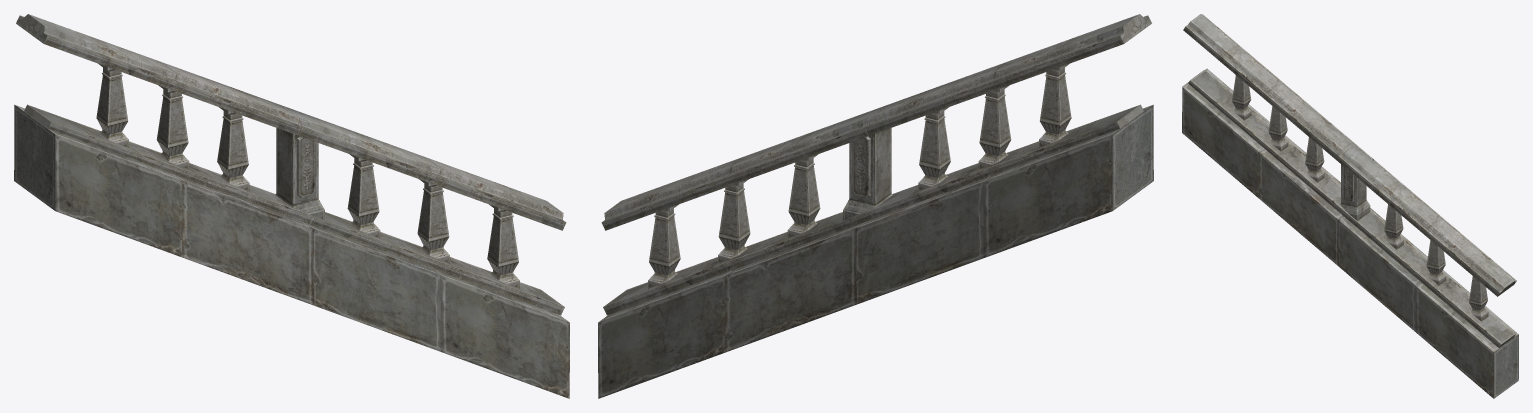
The model's file is bg_lut_lucastle_stairfence02a_sm_kss.FBX.
The picture shows the model from 3 angles, left to right: view 1: azimuth 30°, elevation 25°; view 2: azimuth 150°, elevation 25°; view 3: azimuth 330°, elevation 25°; orthographic projection. The views are drawn at different scales.
Parts seen in each view (by area): view 1: bg_lut_lucastle_stairfence02a_sm_kss; view 2: bg_lut_lucastle_stairfence02a_sm_kss; view 3: bg_lut_lucastle_stairfence02a_sm_kss.
Boxes of the visible parts, box(x1,y1,x2,y2) form: bg_lut_lucastle_stairfence02a_sm_kss: box(14, 14, 569, 398); bg_lut_lucastle_stairfence02a_sm_kss: box(598, 14, 1153, 398); bg_lut_lucastle_stairfence02a_sm_kss: box(1182, 14, 1518, 398).
Bounding box in the file's own units: 449 × 400 × 60.99.
